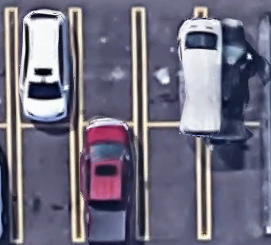Occupied: (206, 8, 265, 124), (79, 124, 137, 239), (18, 10, 72, 125), (144, 8, 196, 124)
Vacant: (79, 10, 136, 124), (17, 125, 73, 241), (208, 125, 265, 238), (144, 125, 200, 239)
